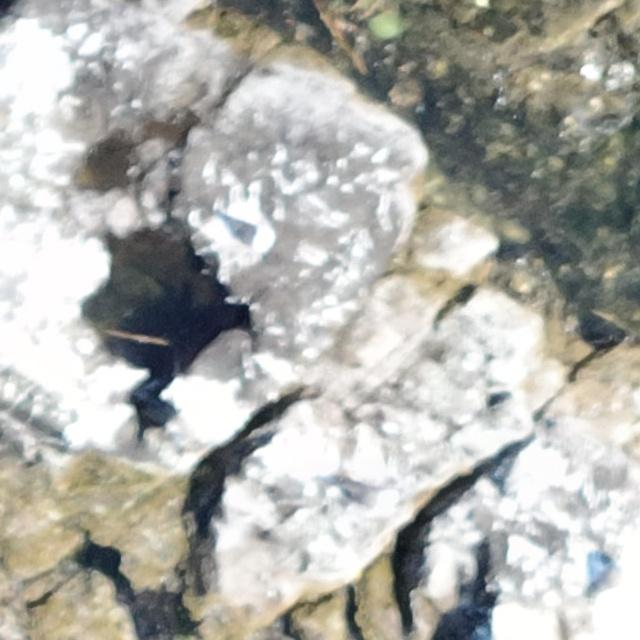umineko: (218, 213, 273, 248), (347, 479, 394, 506)
